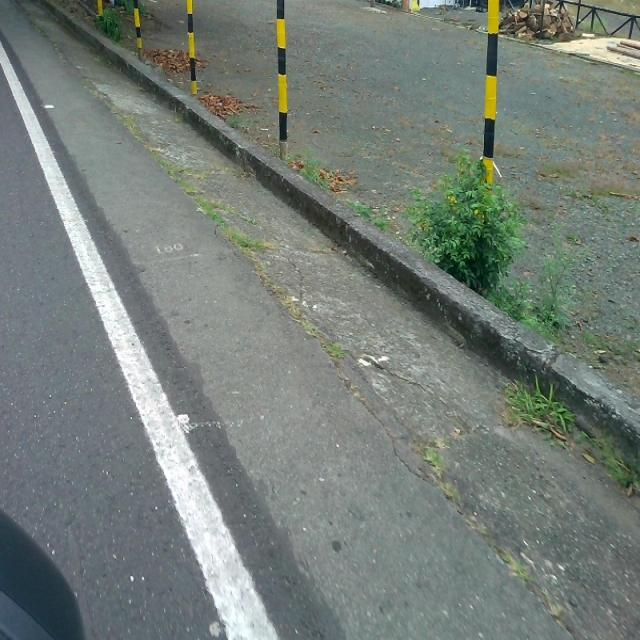DITCH: (2, 2, 638, 637), (1, 46, 638, 638)
